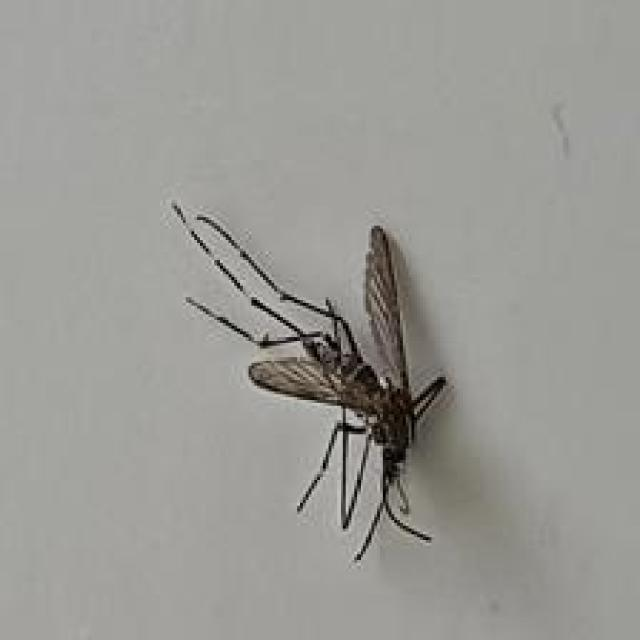Aedes albopictus: (170, 199, 450, 564)
